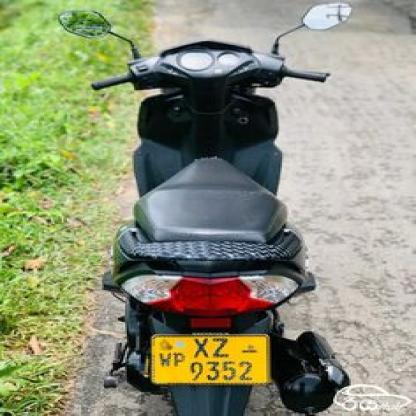bike back: (46, 0, 356, 416)
number plate: (154, 336, 266, 386)
